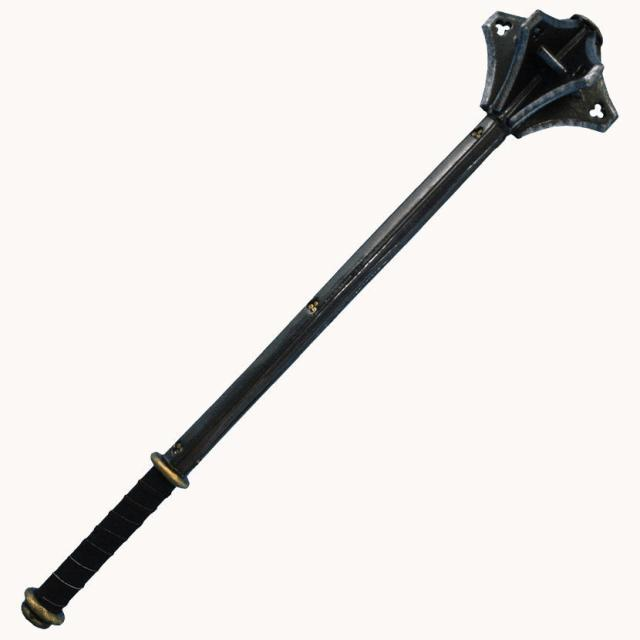mace: (23, 10, 616, 630)
